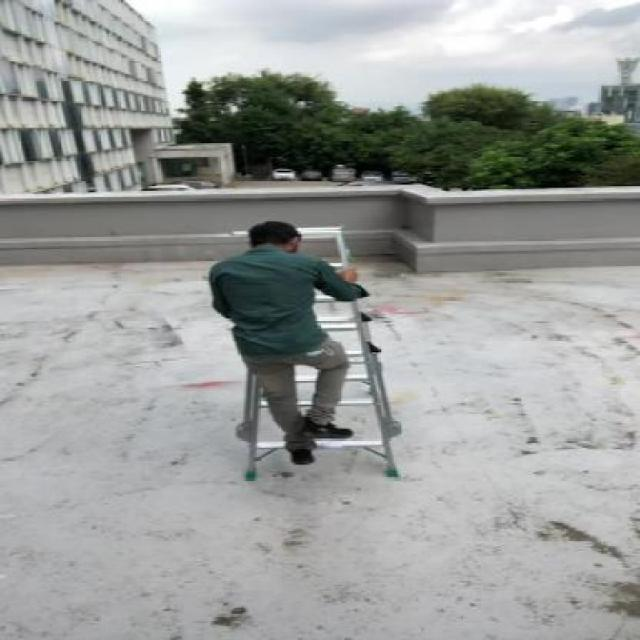hard hat: (213, 223, 419, 485)
vest: (218, 215, 374, 478)
